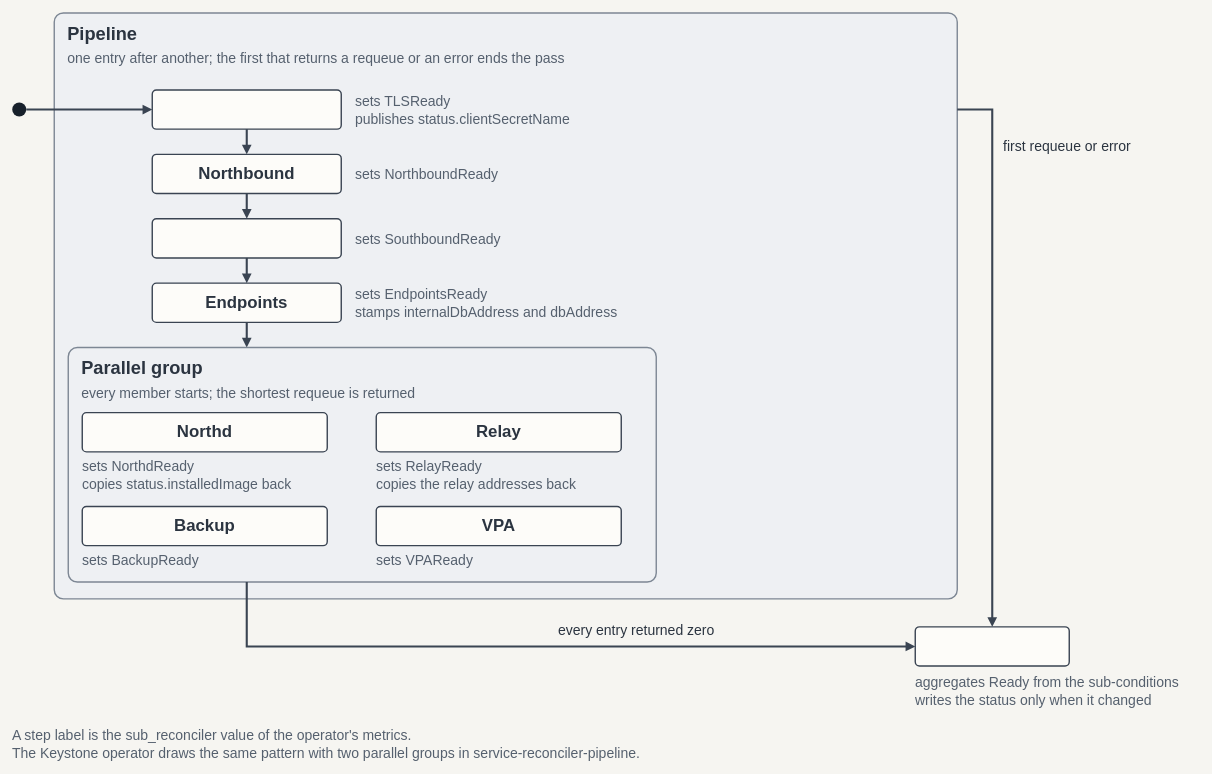
The diagram is 1212 pixels wide and 774 high, and some of its shapes have lost their labels. Each missing label, with the centre of its shape:
Southbound: the point at 246,238
TLS: the point at 246,109
updateStatus: the point at 992,646
